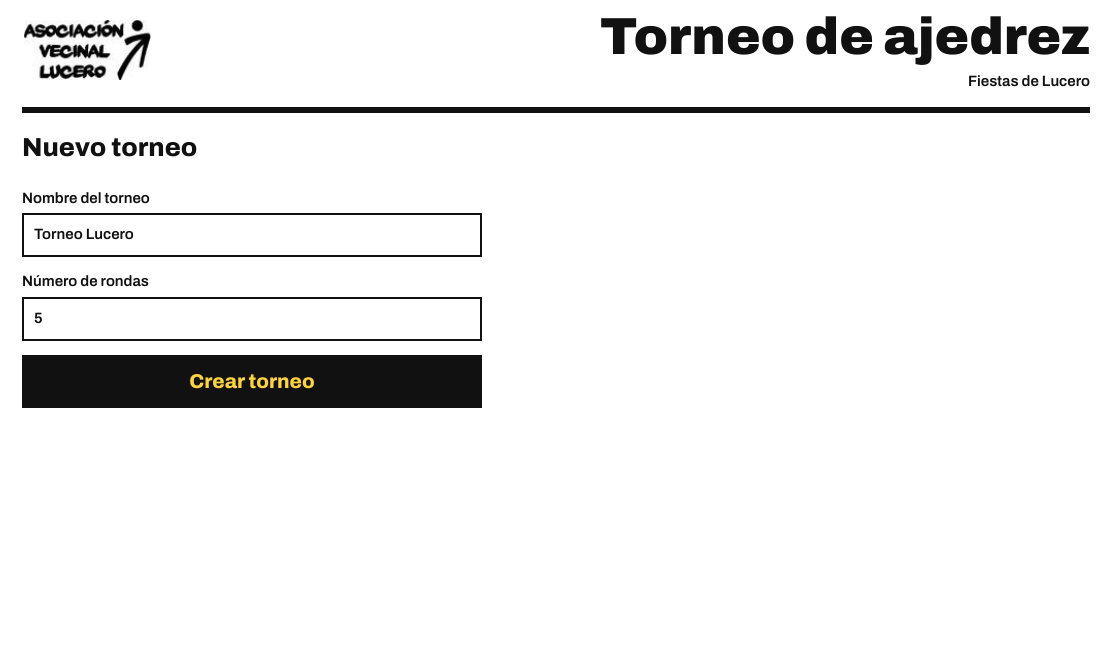
Test: inscripción › se puede quitar un jugador
Replace the text in the field labelled "Nombre del torneo" with "Torneo de otoño": (252, 235) [22,213,482,257]
Replace the text in the number field labelled "Número de rondas" with "3": (252, 319) [22,297,482,341]
Click the button "Crear torneo": (252, 382) [22,355,482,408]
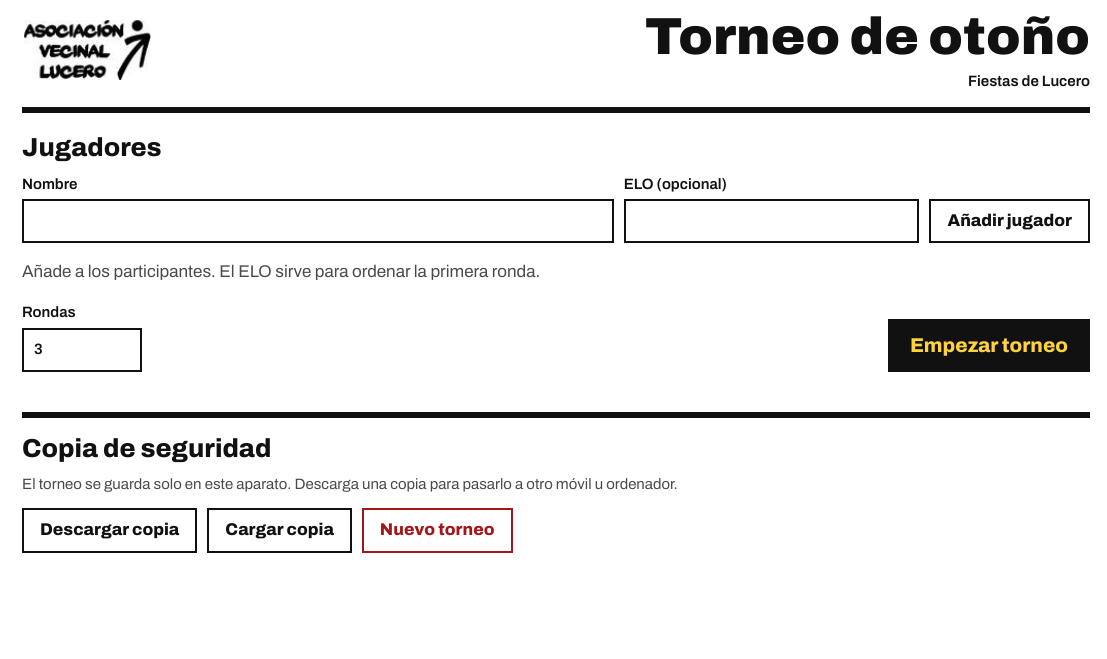
In the field labelled "Nombre": (318, 221) [22,199,614,243], type "Ana"
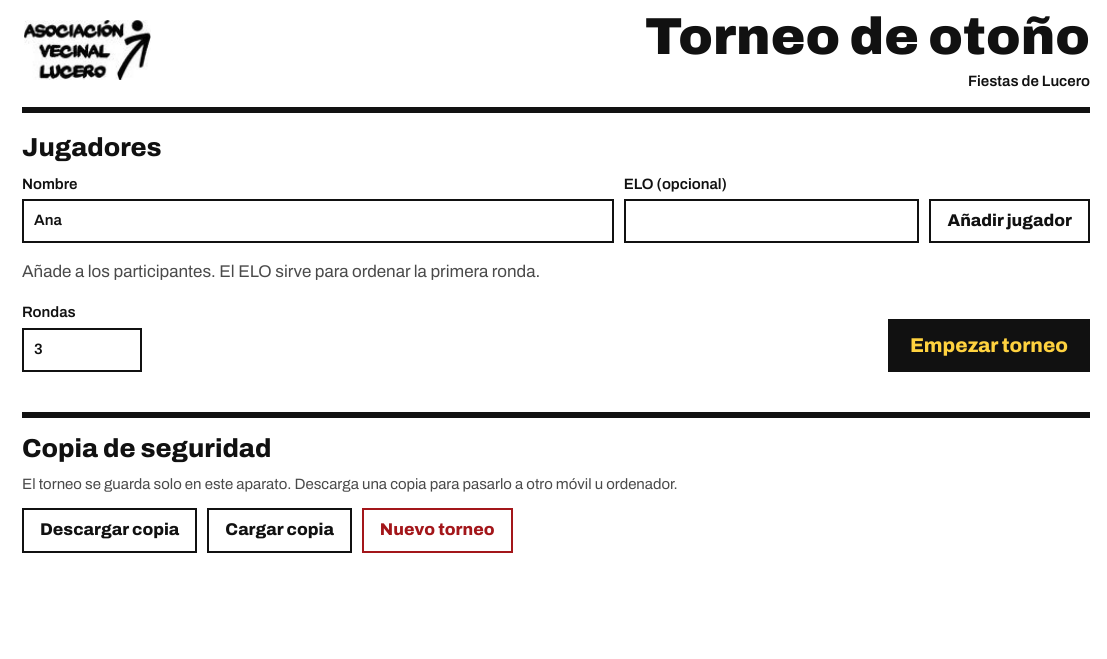
Click the button "Añadir jugador": (1010, 221) [930,199,1090,243]
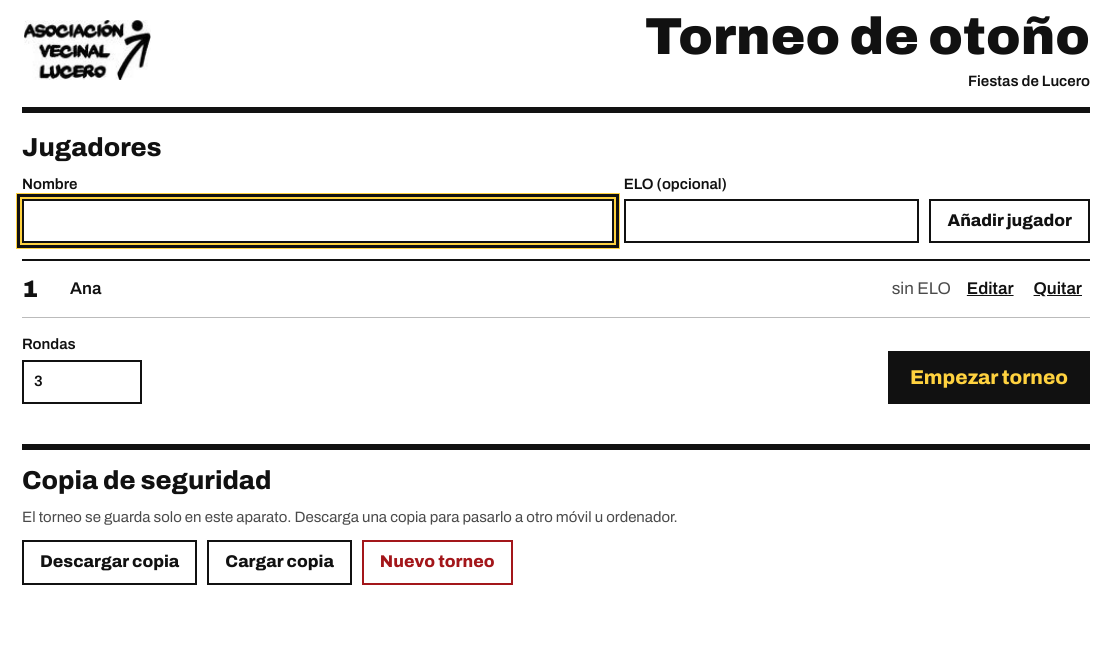
In the field labelled "Nombre": (318, 221) [22,199,614,243], type "Luis"
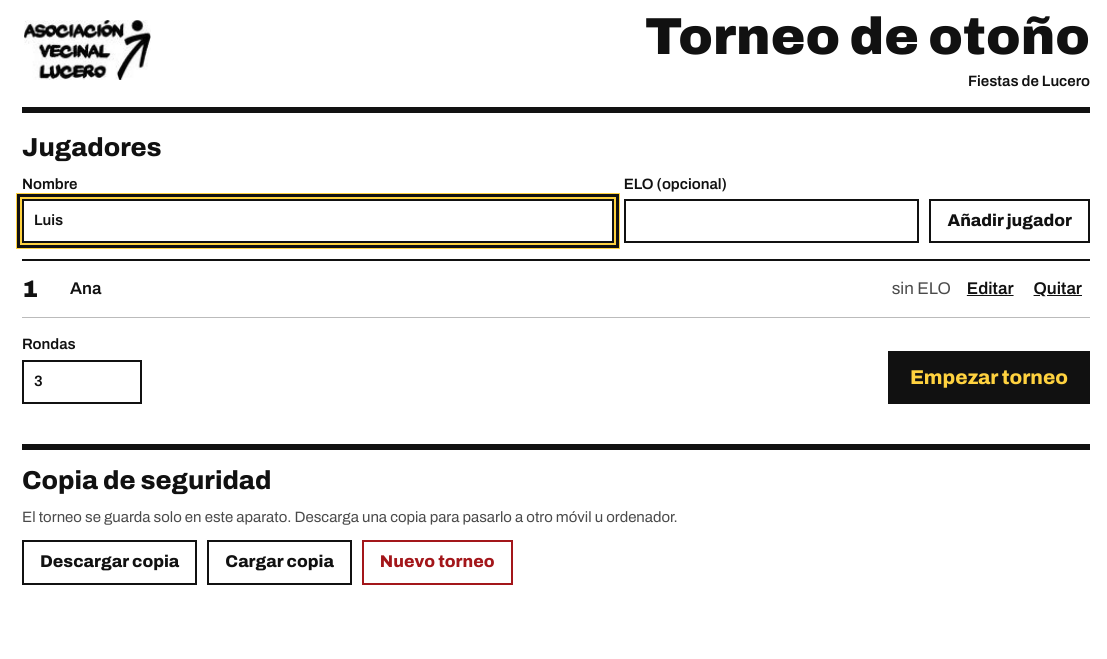
Click the button "Añadir jugador": (1010, 221) [930,199,1090,243]
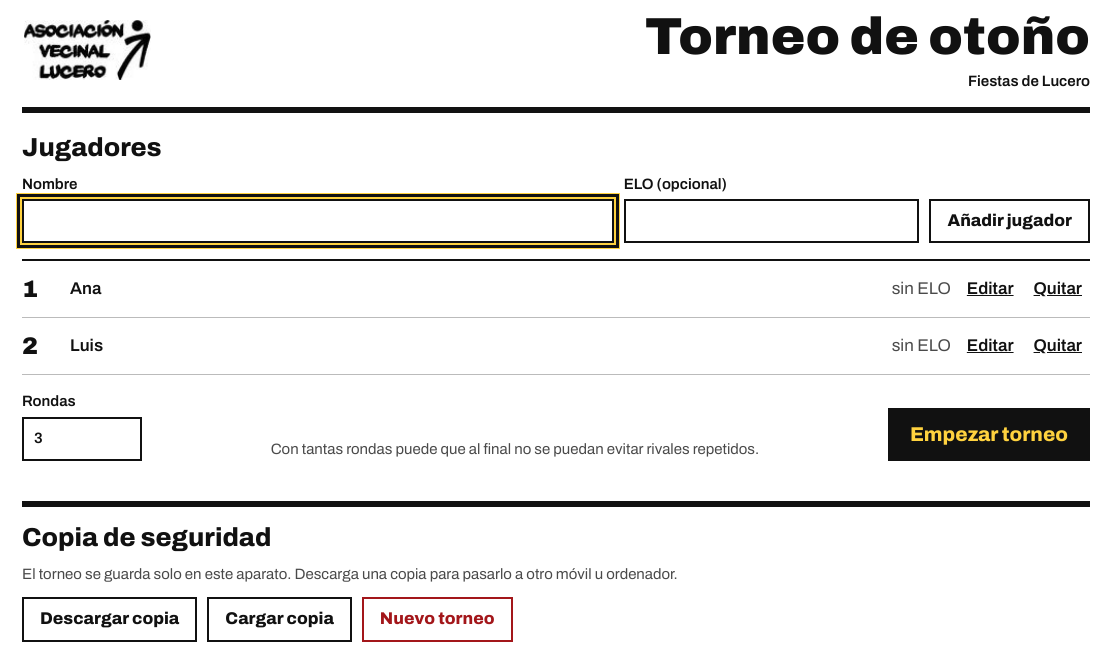
Click the button with aria-label "Quitar a Ana": (1058, 289) [1026,267,1090,311]
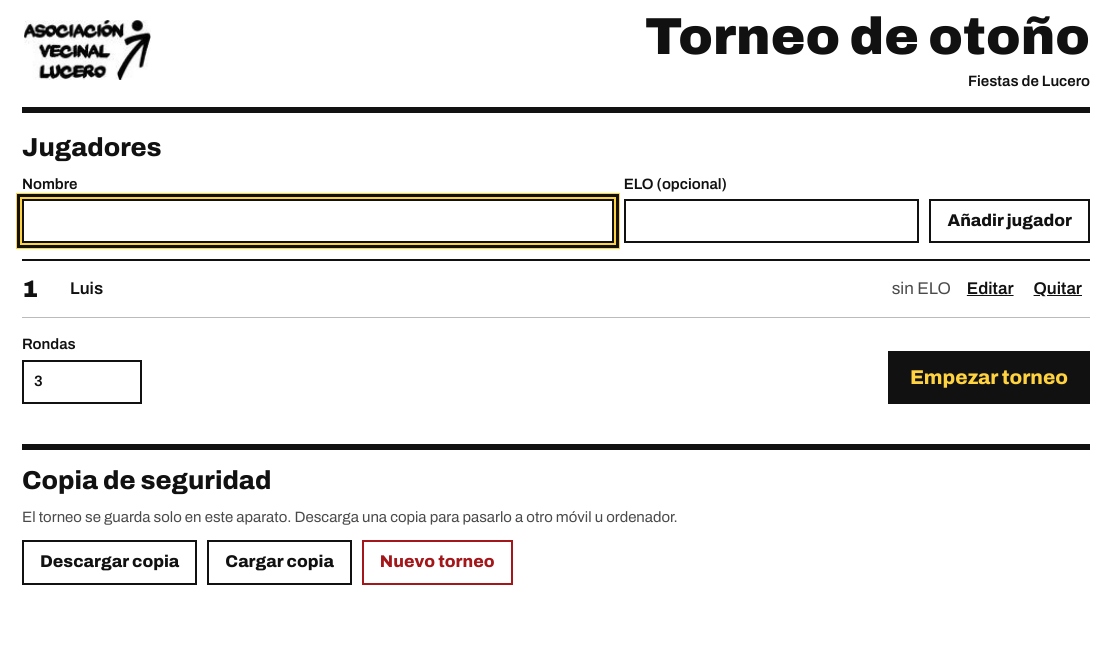
Check: the number of list items is 1, box [22,261,1090,318]
